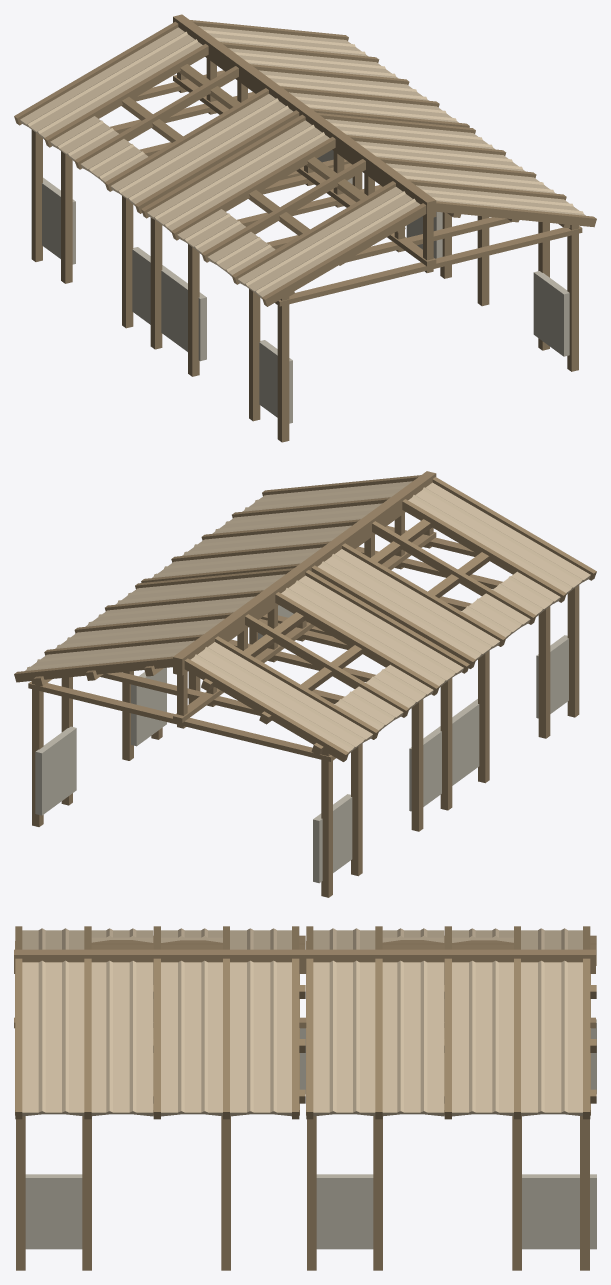
The model's file is LightWoodBuildingLargeRoofingSection1.fbx.
The picture shows the model from 3 angles, top to bottom: view 1: azimuth 30°, elevation 25°; view 2: azimuth 150°, elevation 25°; view 3: azimuth 270°, elevation 25°; orthographic projection. The views are drawn at different scales.
Visible parts, largest first — view 1: LightWoodBuildingLargeRoofingSection1; view 2: LightWoodBuildingLargeRoofingSection1; view 3: LightWoodBuildingLargeRoofingSection1.
Boxes of the visible parts, x1,y1,x2,y2 form: LightWoodBuildingLargeRoofingSection1: (14,14,596,442); LightWoodBuildingLargeRoofingSection1: (14,471,596,897); LightWoodBuildingLargeRoofingSection1: (14,926,596,1270).
Bounding box in the file's own units: 2308 × 1365 × 3066.
